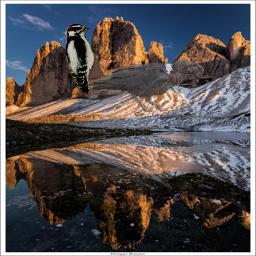Crow: (85, 58, 204, 113)
Woodpecker: (66, 24, 102, 94)
